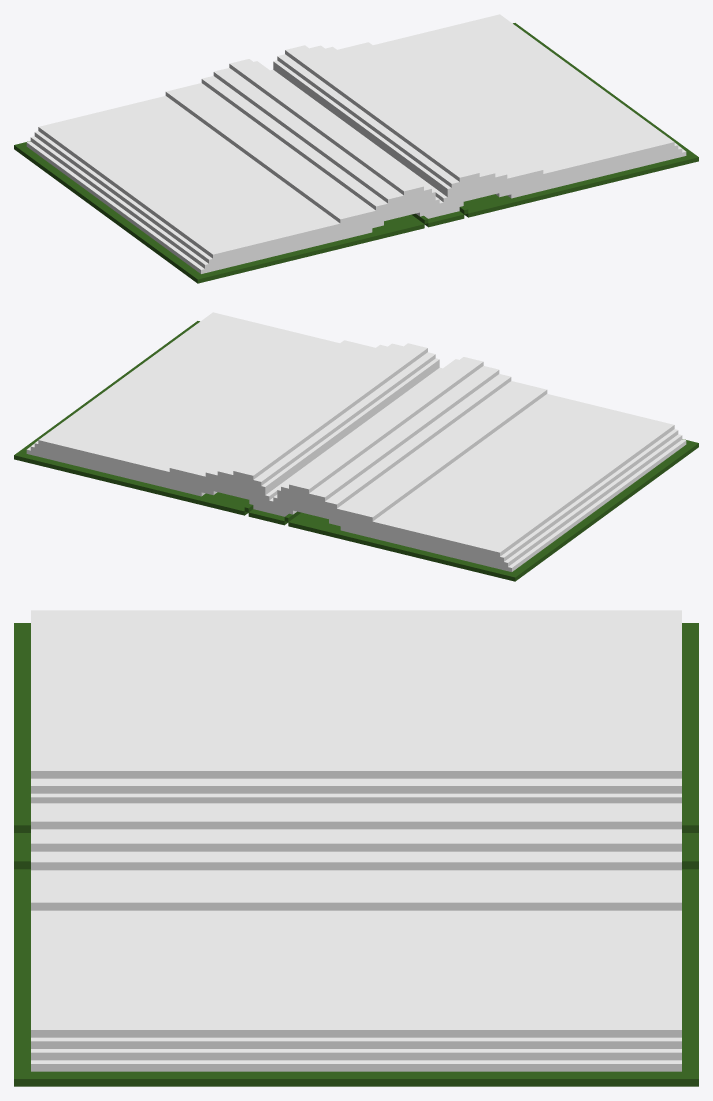
Rendered from Book1.fbx.
3 views of the same model, one above another, from view 1: azimuth 30°, elevation 25°; view 2: azimuth 150°, elevation 25°; view 3: azimuth 270°, elevation 25° (orthographic). The views are drawn at different scales.
Parts seen in each view (by area): view 1: Book1; view 2: Book1; view 3: Book1.
Boxes of the visible parts, box(x1,y1,x2,y2) form: Book1: box(14, 14, 698, 283); Book1: box(14, 312, 698, 581); Book1: box(14, 610, 698, 1086).
Bounding box in the file's own units: 12.6 × 0.9 × 8.
